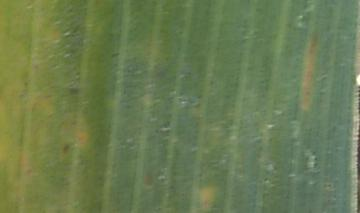tarspot: (311, 150, 319, 171), (66, 86, 80, 96), (60, 142, 71, 154), (110, 51, 122, 59), (262, 176, 268, 183)
